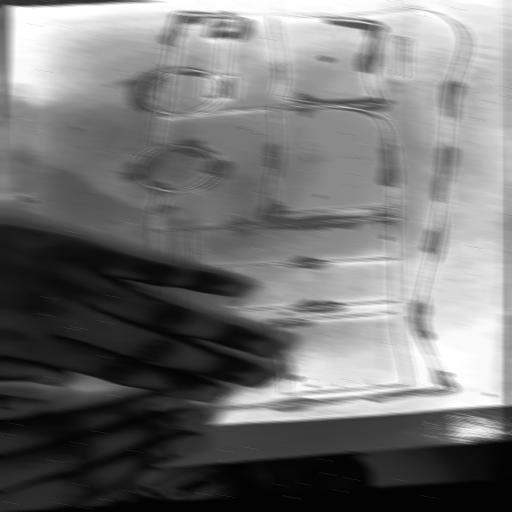bus: (125, 0, 472, 430)
